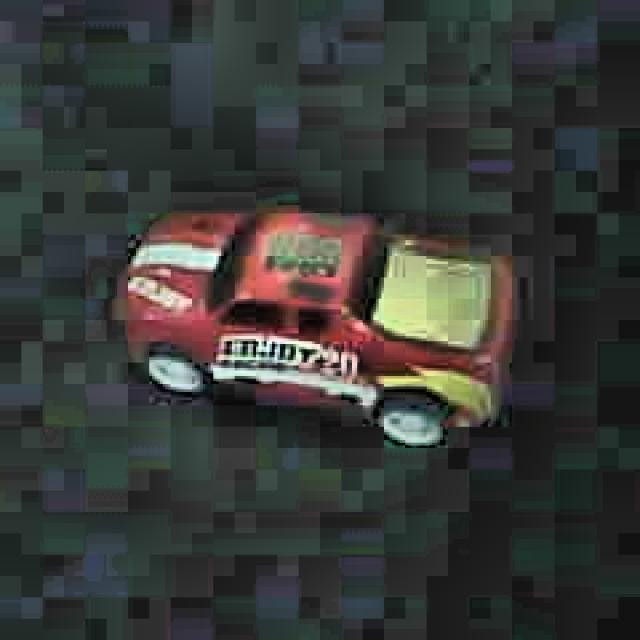car: (119, 200, 512, 460)
